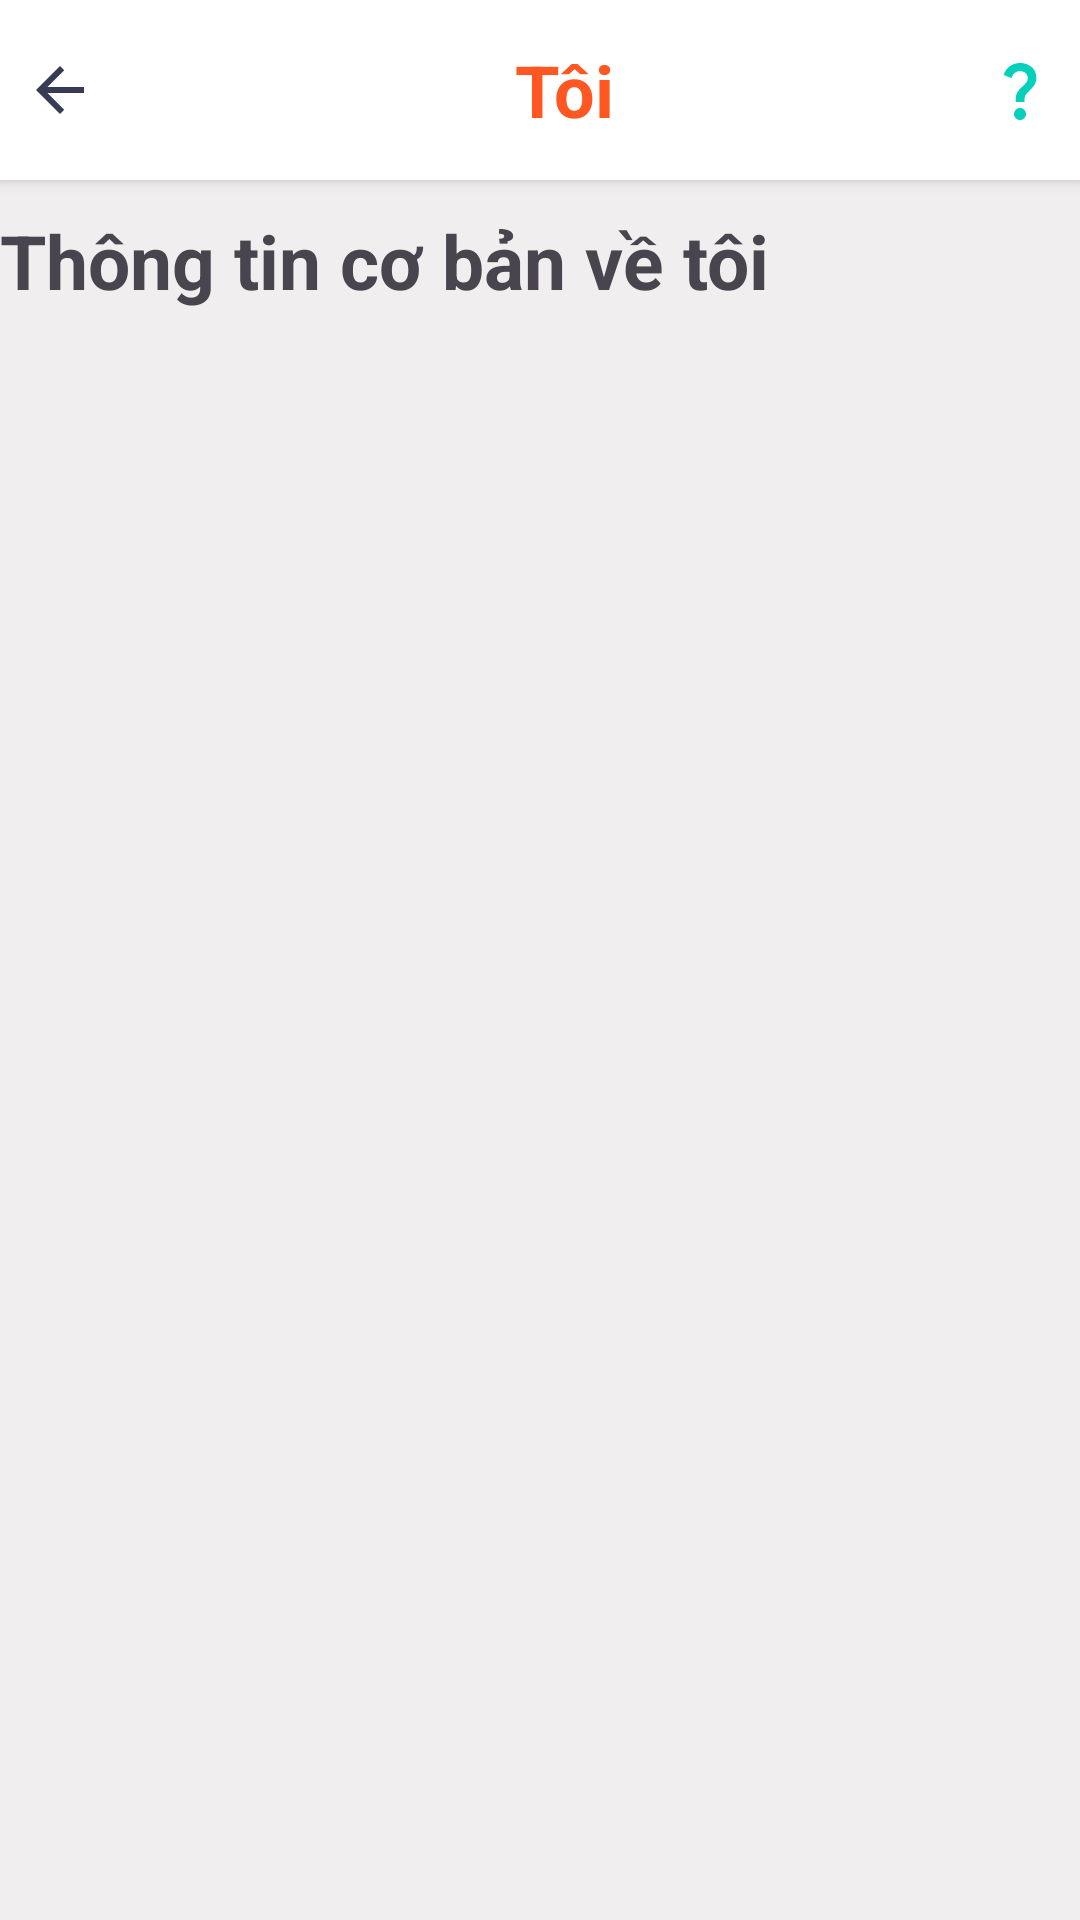

Screen size 1080 x 1920. Icon name, then its box in pixels as (x1,y1,x2,y2):
arrow back: (36,66,84,114)
question mark: (1003,63,1037,120)
